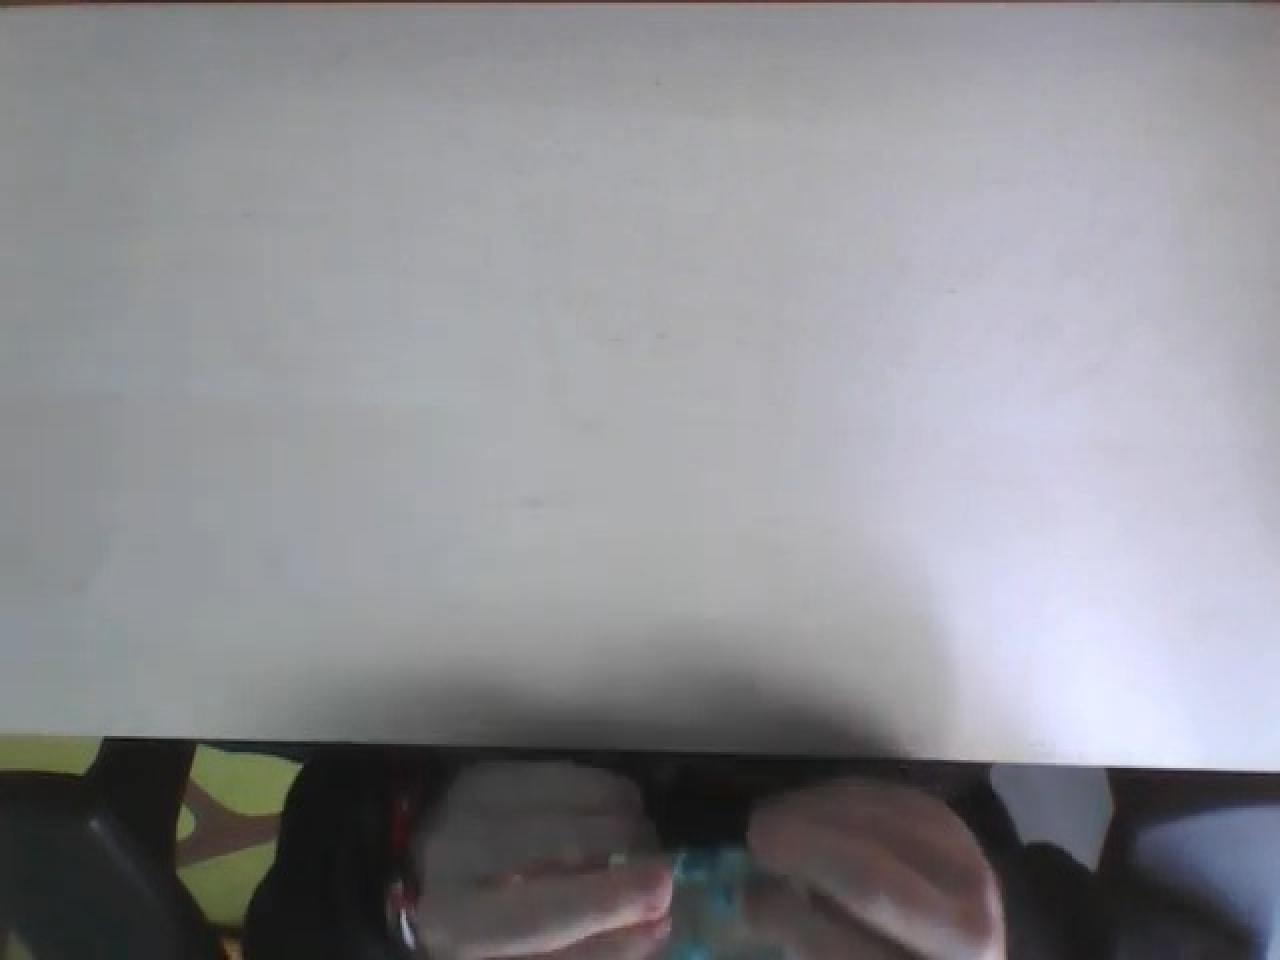100leva: (10, 741, 1272, 960)
